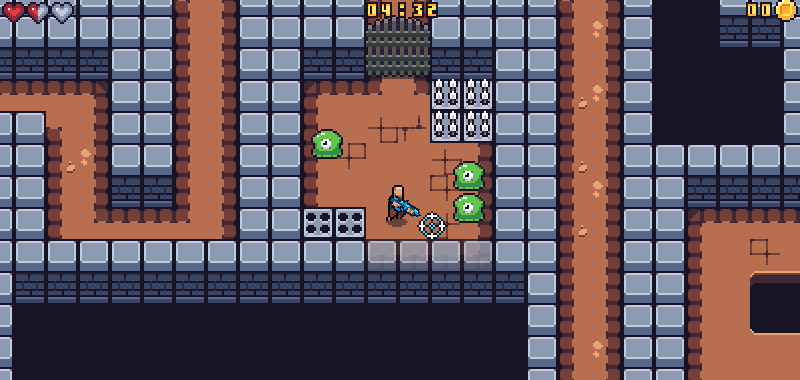enemy_slug_big: (308, 126, 344, 159), (451, 158, 484, 193), (453, 192, 485, 223)
trap_door: (363, 14, 432, 78)
trap_off: (300, 208, 365, 239)
trap_on: (429, 79, 492, 140)
